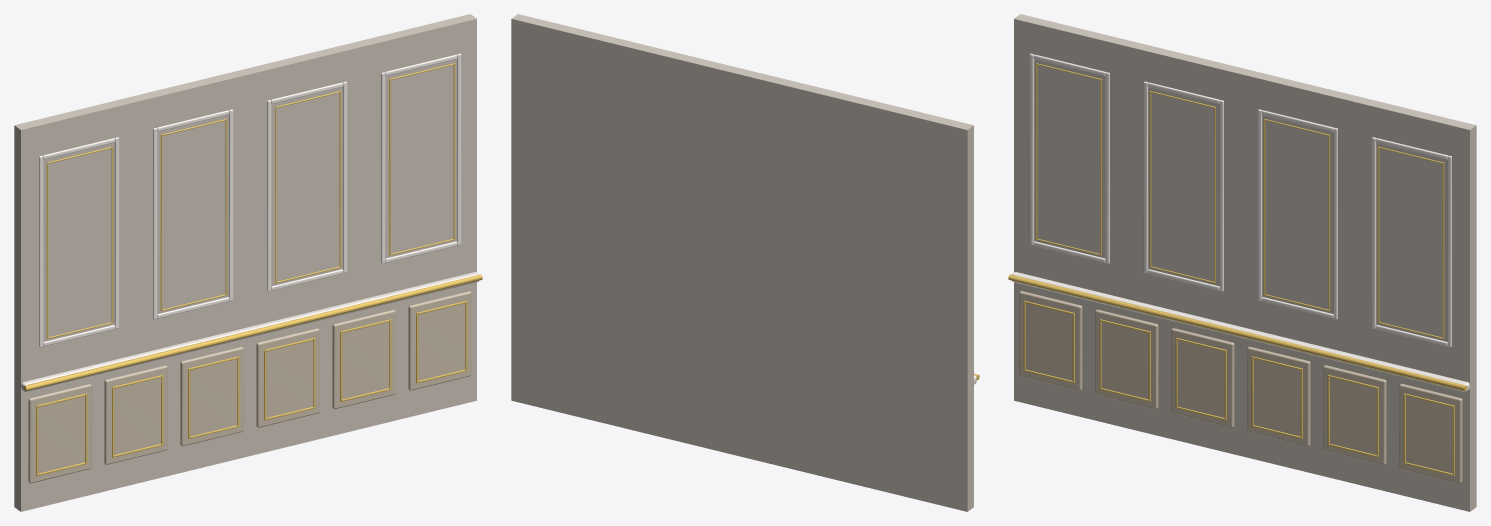
The model's file is wall_panel_wide.glb.
3 renders of one model, left to right at view 1: azimuth 30°, elevation 25°; view 2: azimuth 150°, elevation 25°; view 3: azimuth 330°, elevation 25°, orthographic.
Parts seen in each view (by area): view 1: wall_panel_wide; view 2: wall_panel_wide; view 3: wall_panel_wide.
Part boxes in pixels (x1,y1,x2,y2): wall_panel_wide: (14,14,482,511); wall_panel_wide: (511,14,979,511); wall_panel_wide: (1008,14,1476,511).
Size of the model in its own units: 4 by 3.2 by 0.1829.
